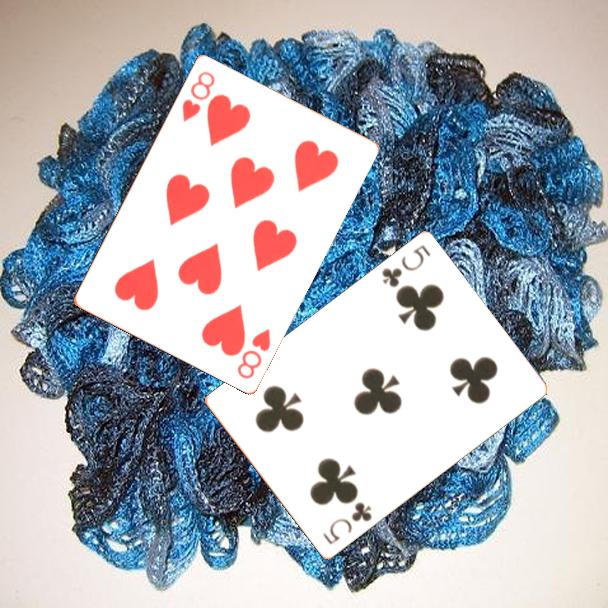c05: (378, 241, 434, 291), (319, 499, 375, 548)
h08: (233, 324, 273, 382), (178, 67, 218, 124)
